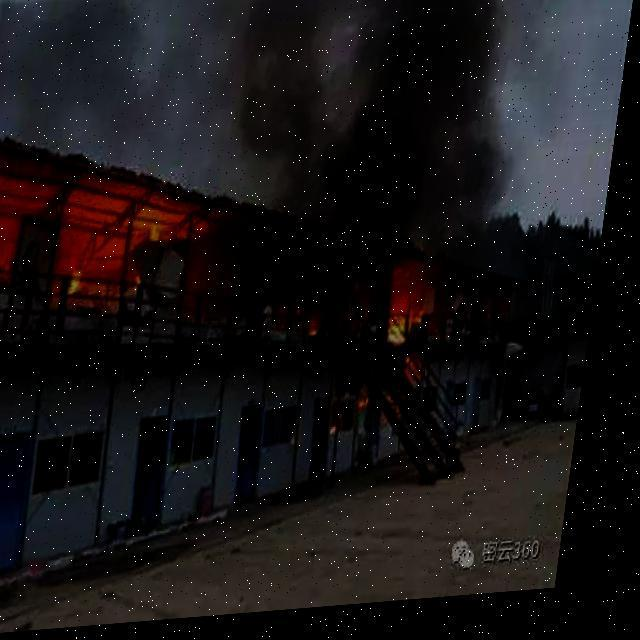Fire: (278, 245, 390, 348), (389, 260, 438, 362)
